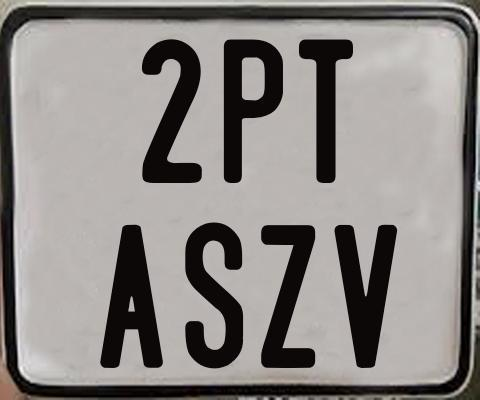2: (141, 37, 207, 184)
A: (100, 223, 164, 371)
P: (221, 39, 283, 188)
S: (184, 221, 244, 368)
T: (296, 38, 350, 186)
V: (332, 223, 396, 371)
Z: (259, 223, 313, 366)
